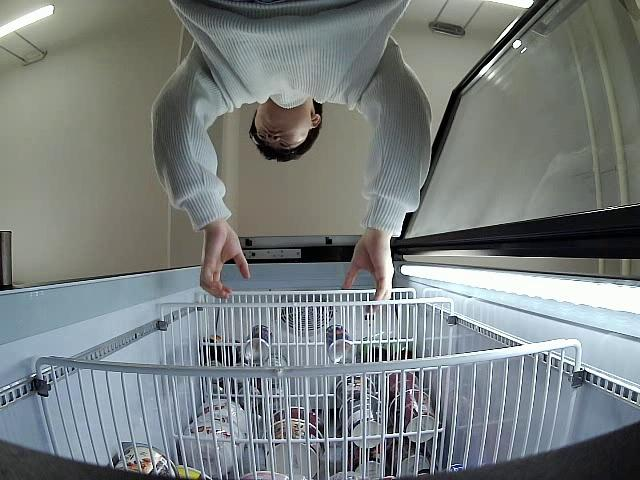00_hand: (341, 233, 395, 313), (200, 223, 251, 299)
